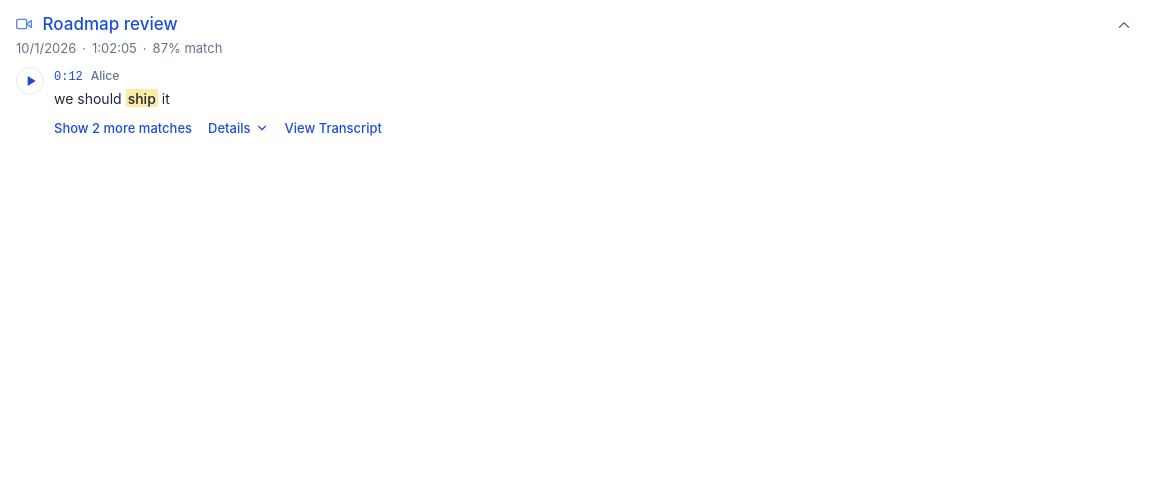
SearchResultCard — compact result › narrow layout: "Details" expands the info card inline
Click the button "Details": [238, 128] box [208, 118, 268, 138]
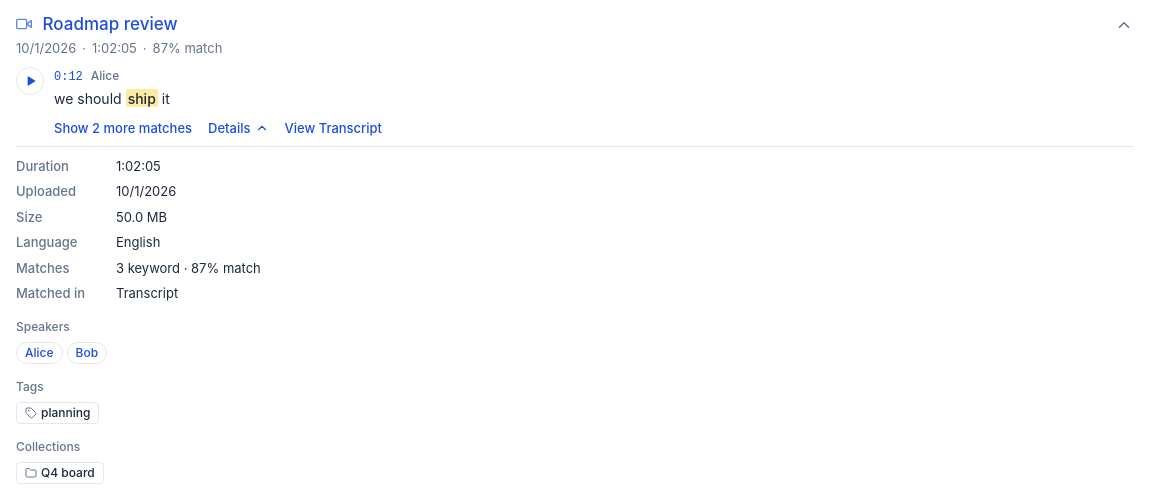
Check: the button "Details" is expanded, box [208, 118, 268, 138]
Check: the list item "Bob" is shown, box [66, 342, 107, 364]
Check: the text "planning" is shown, box [41, 404, 90, 422]
